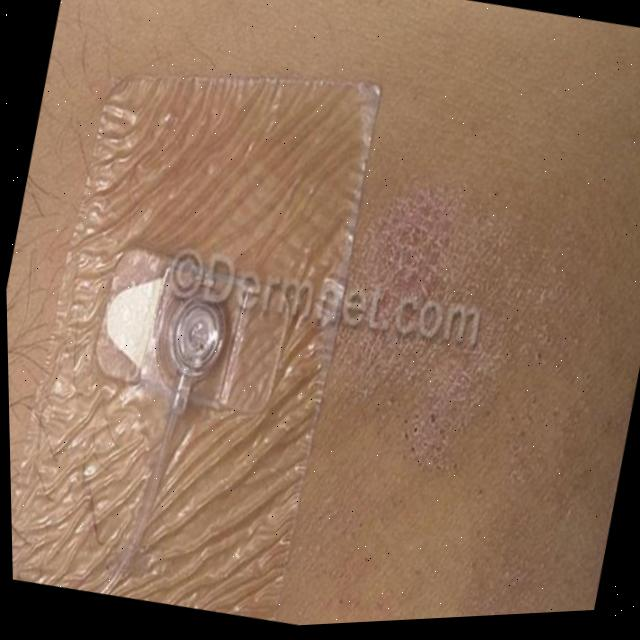Eczema: (289, 155, 640, 625)
